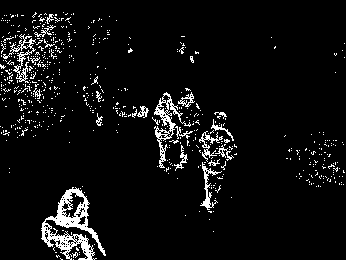person: (204, 109, 239, 210), (177, 89, 198, 169), (154, 93, 174, 168)
